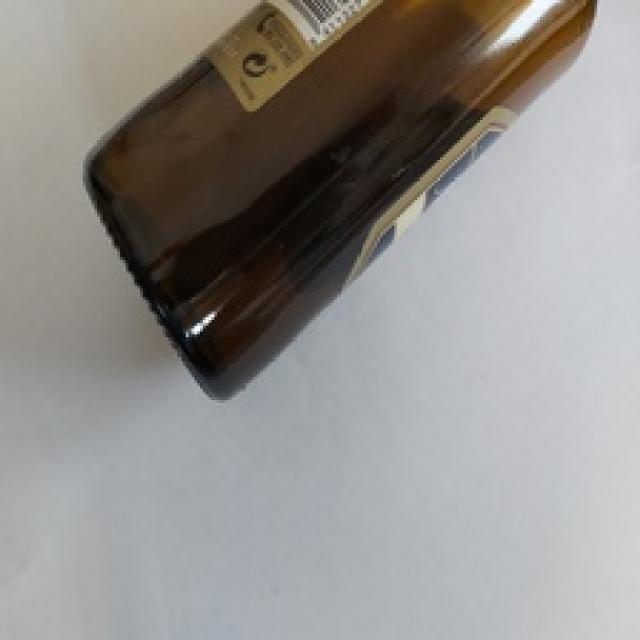Glass: (84, 0, 597, 402)
